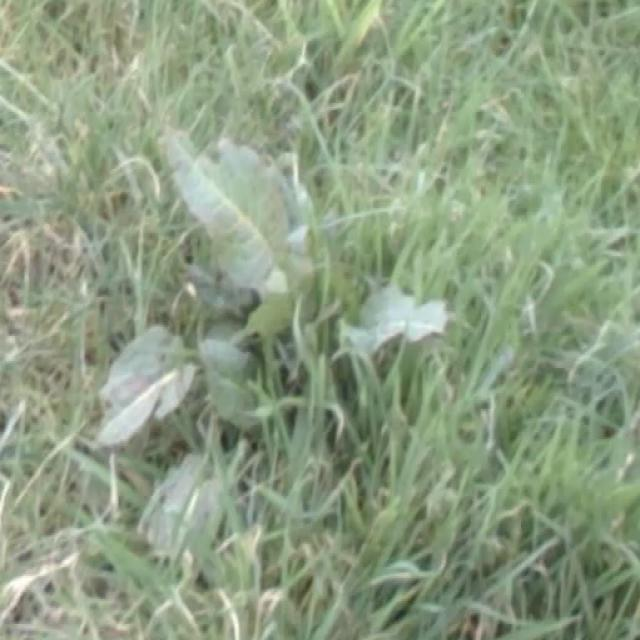organic waste: (88, 104, 448, 564)
